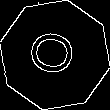O_E: (25, 28, 85, 82)
